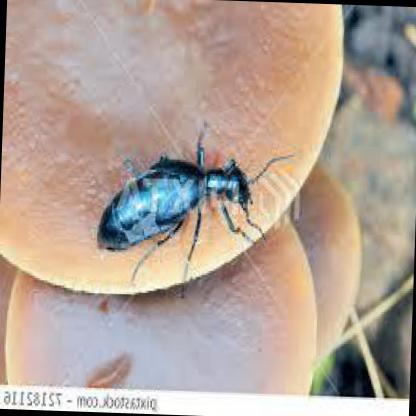blister beetle: (96, 148, 266, 255)
